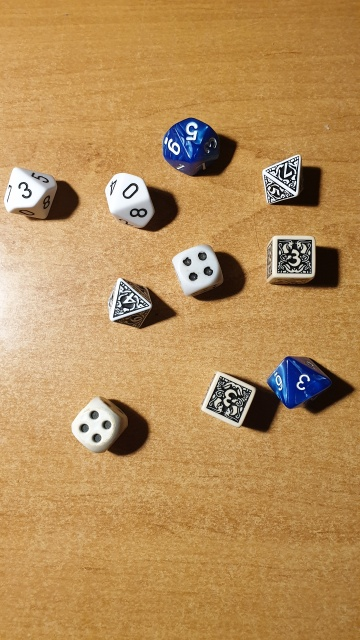d10-10: (113, 174, 151, 211)
d10-3: (280, 350, 328, 414), (7, 170, 47, 209)
d10-5: (171, 114, 213, 156)
d6-4: (72, 396, 125, 456), (175, 246, 222, 290)
d6p-3: (200, 371, 262, 428), (271, 232, 317, 285)
d8p-4: (108, 277, 157, 323)
d8p-7: (267, 152, 309, 196)
